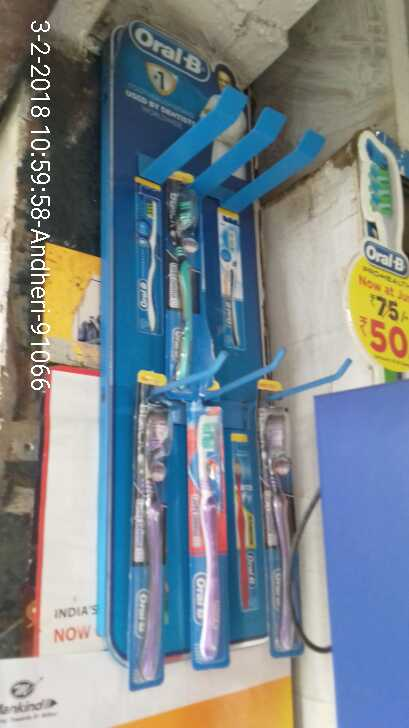oralb: (258, 378, 309, 658), (182, 399, 231, 674), (127, 370, 169, 683), (161, 168, 195, 375)
